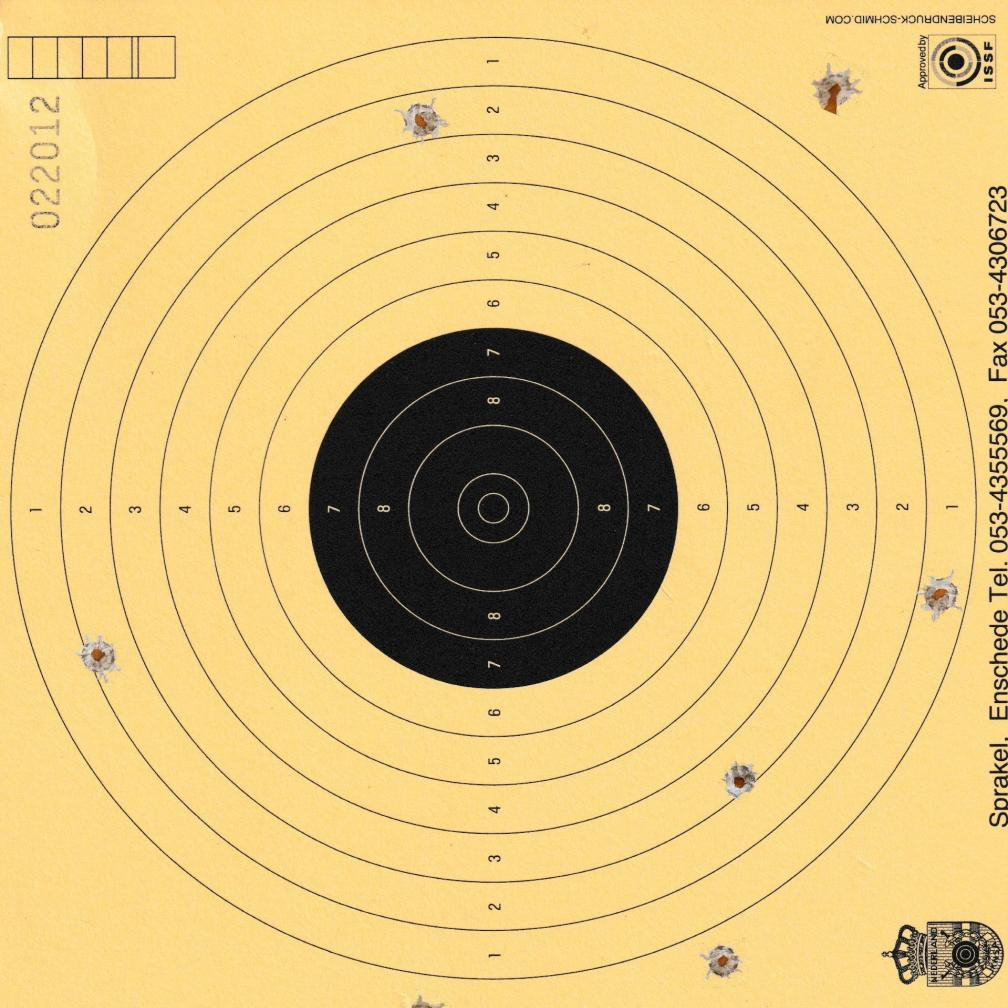0: (815, 68, 865, 114), (703, 942, 743, 976), (402, 996, 446, 1008)
1: (920, 578, 960, 620)
2: (388, 102, 450, 140), (73, 638, 121, 686)
3: (722, 763, 757, 796)
Target: (10, 29, 988, 985)
black_contour: (307, 327, 678, 690)
